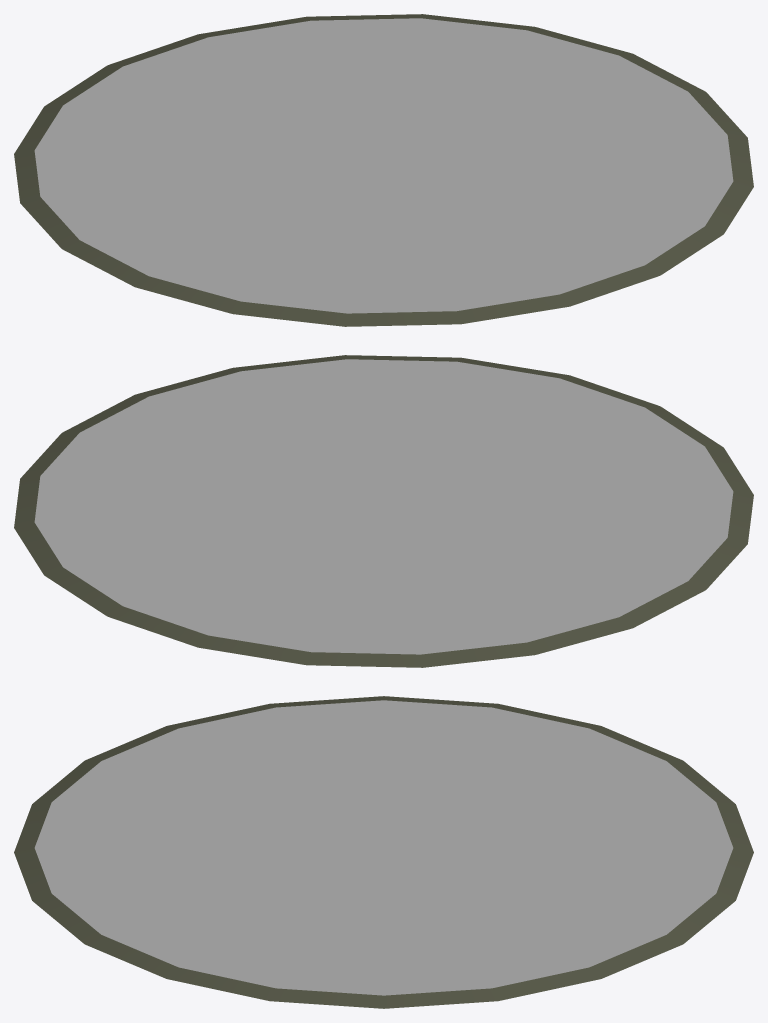
The model's file is CenterHubRound.fbx.
3 views of the same model, one above another, from view 1: azimuth 30°, elevation 25°; view 2: azimuth 150°, elevation 25°; view 3: azimuth 270°, elevation 25° (orthographic).
Parts seen in each view (by area): view 1: pCylinder1; view 2: pCylinder1; view 3: pCylinder1.
Part boxes in pixels (x1=…): pCylinder1: x1=14, y1=14, x2=753, y2=326; pCylinder1: x1=14, y1=355, x2=753, y2=667; pCylinder1: x1=14, y1=696, x2=753, y2=1008.
Bounding box in the file's own units: 1500 × 10.17 × 1500.
Materials: 2 (1 with a texture image).
